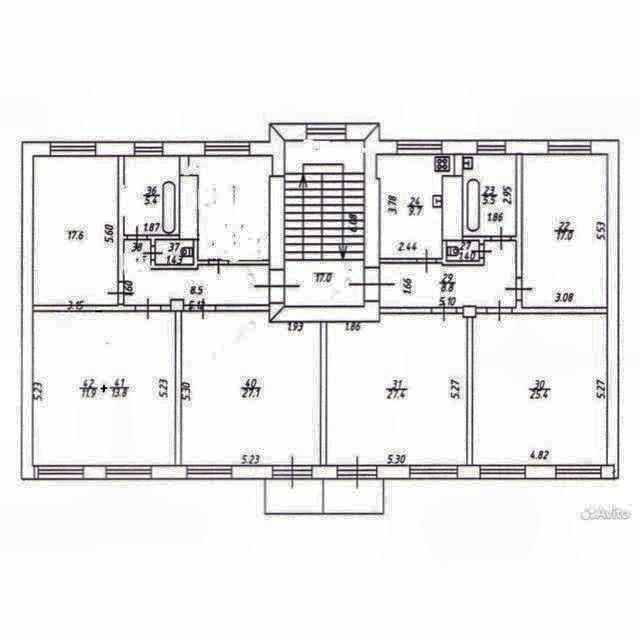room: (326, 313, 467, 466), (33, 311, 173, 464), (181, 311, 320, 465), (474, 314, 605, 464), (285, 140, 363, 305), (522, 154, 605, 306), (34, 156, 118, 303), (124, 239, 270, 305), (380, 240, 516, 307), (190, 155, 273, 259), (376, 154, 455, 258), (124, 157, 179, 234), (464, 153, 515, 235), (265, 478, 322, 513), (324, 479, 383, 512), (156, 239, 193, 264), (447, 239, 480, 260)
